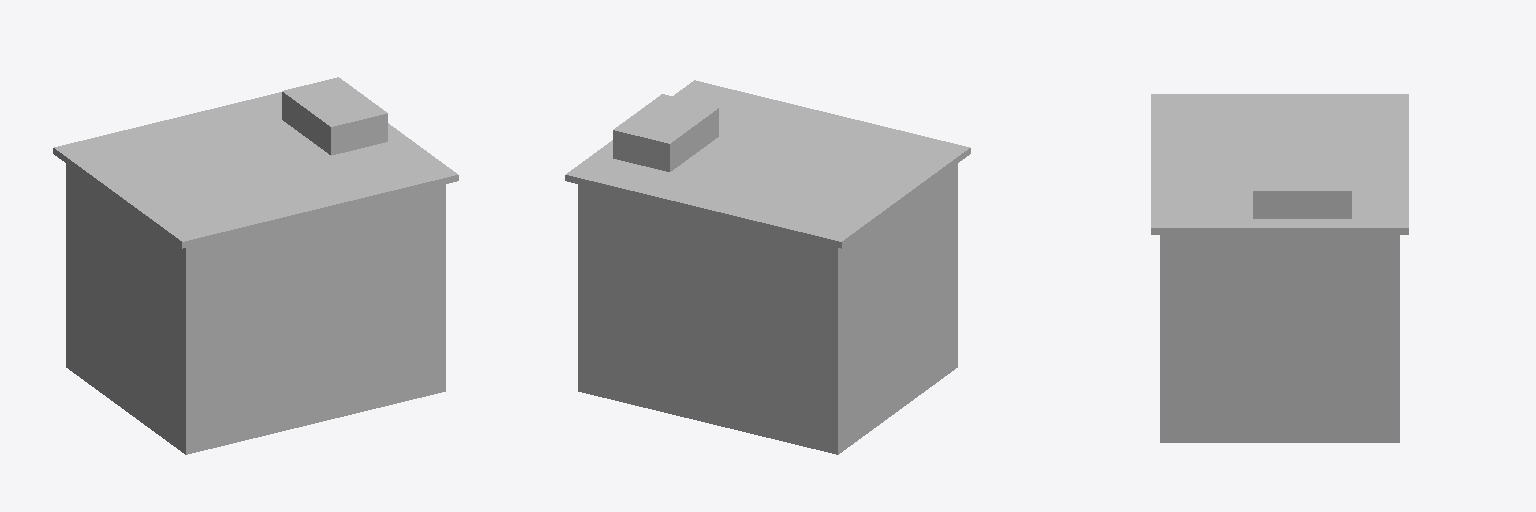
File: BuildingToonTest.obj
The picture shows the model from 3 angles: view 1: azimuth 30°, elevation 25°; view 2: azimuth 150°, elevation 25°; view 3: azimuth 270°, elevation 25°; orthographic projection.
Parts seen in each view (by area): view 1: pCube19; view 2: pCube19; view 3: pCube19.
Boxes of the visible parts, <box> form: pCube19: <box>53,77,458,454</box>; pCube19: <box>565,80,970,454</box>; pCube19: <box>1151,94,1408,442</box>.
Size of the model in its own units: 1.74 by 1.48 by 1.41.